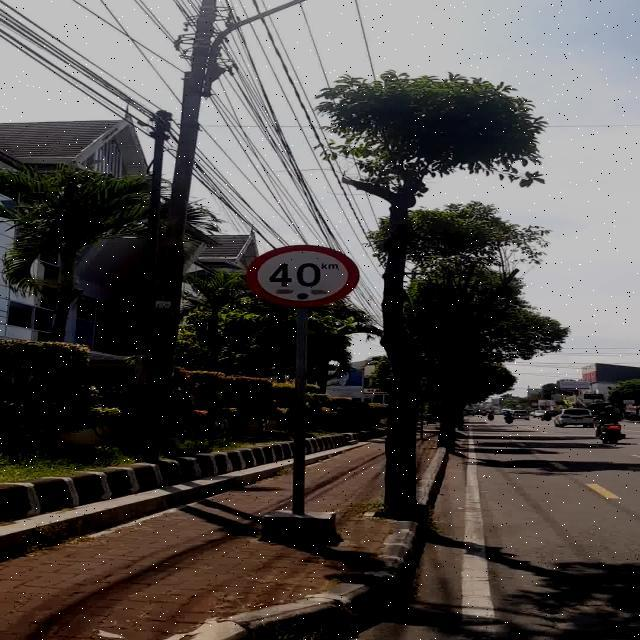Kecepatan Maks. 40 km: (244, 245, 360, 308)
